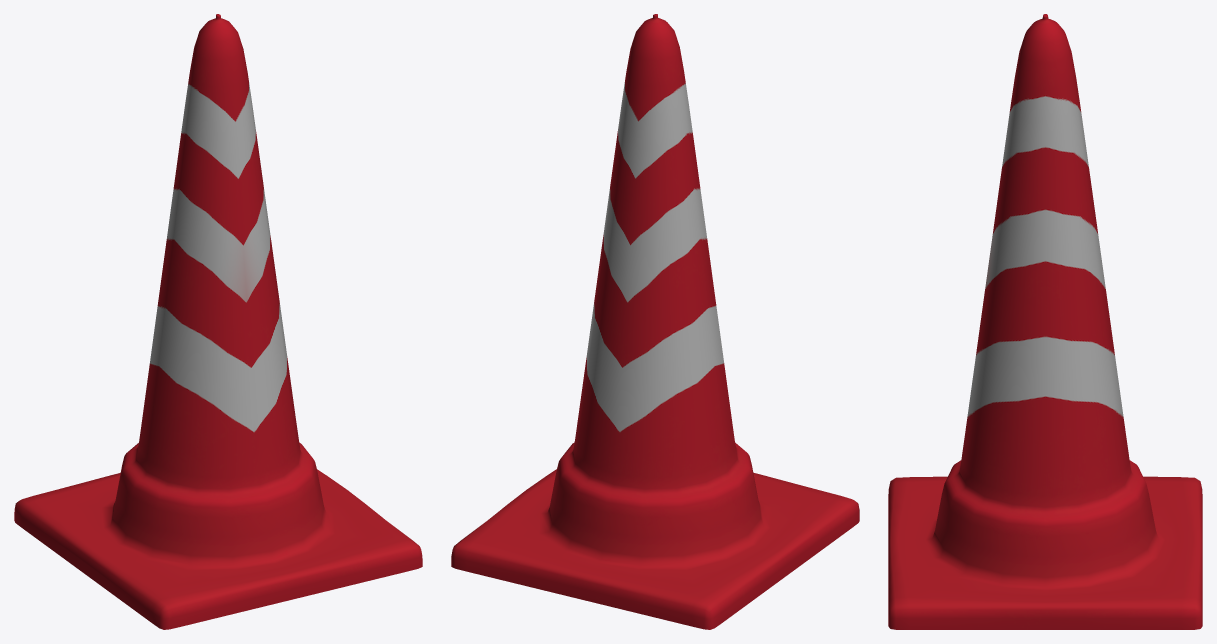
Rendered from ColorCone_Scotch_Red_NoWeight.fbx.
3 renders of one model, left to right at view 1: azimuth 30°, elevation 25°; view 2: azimuth 150°, elevation 25°; view 3: azimuth 270°, elevation 25°, orthographic. The views are drawn at different scales.
Parts seen in each view (by area): view 1: ColorCone_Scotch_Red_NoWeight; view 2: ColorCone_Scotch_Red_NoWeight; view 3: ColorCone_Scotch_Red_NoWeight.
Boxes of the visible parts, left/top/right/bottom form: ColorCone_Scotch_Red_NoWeight: left=14, top=14, right=422, bottom=629; ColorCone_Scotch_Red_NoWeight: left=451, top=14, right=859, bottom=629; ColorCone_Scotch_Red_NoWeight: left=888, top=14, right=1202, bottom=629.
Size of the model in its own units: 38 by 38 by 73.14.
1 material, 1 textured.
